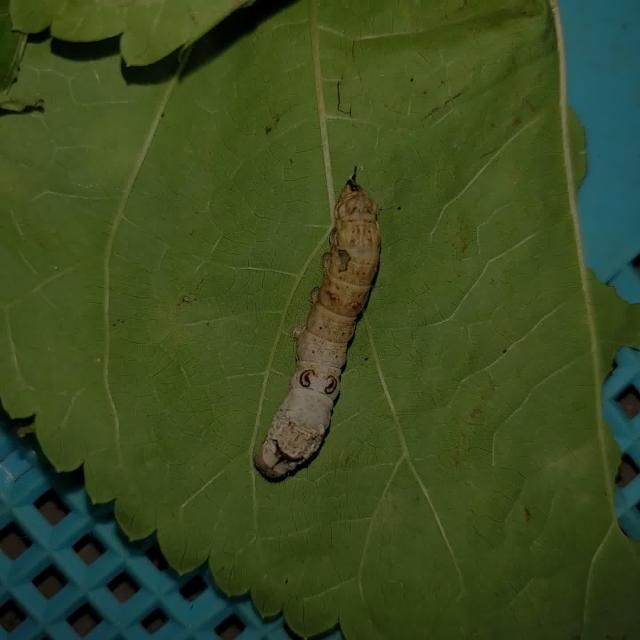Grasserie: (239, 125, 406, 520)
